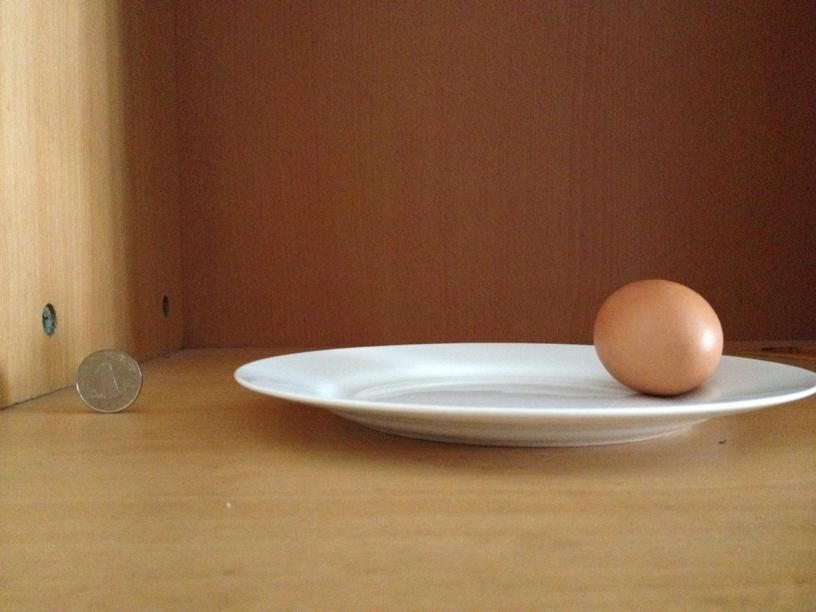coin: (74, 352, 141, 412)
egg: (593, 278, 723, 395)
